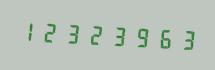nine: (127, 21, 148, 52)
one: (17, 15, 38, 46)
six: (149, 22, 170, 53)
three: (61, 17, 82, 48), (105, 19, 126, 50), (171, 23, 192, 54)
two: (39, 16, 60, 47), (83, 18, 104, 49)
